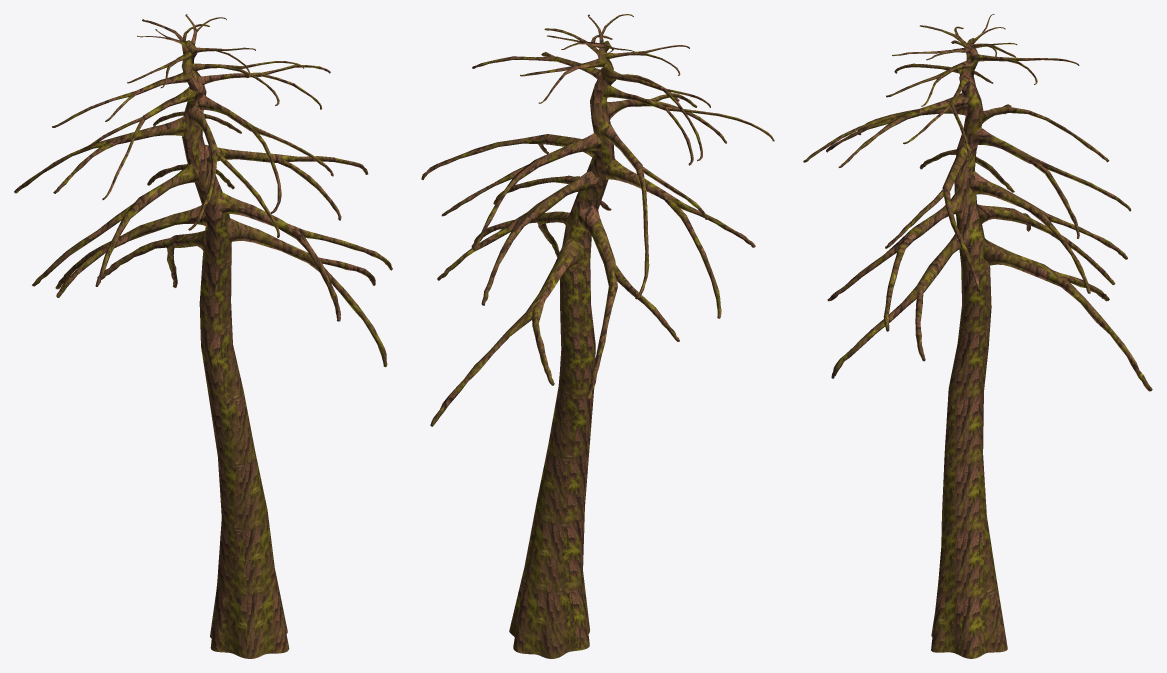
The model's file is dtree_dead_3.glb.
3 renders of one model, left to right at view 1: azimuth 30°, elevation 25°; view 2: azimuth 150°, elevation 25°; view 3: azimuth 270°, elevation 25°, orthographic. The views are drawn at different scales.
Visible parts, largest first — view 1: model; view 2: model; view 3: model.
Part boxes in pixels (<box>): model: <box>14,14,392,658</box>; model: <box>421,14,774,658</box>; model: <box>803,14,1152,658</box>.
Bounding box in the file's own units: 4.08 × 7.63 × 4.13.
Materials: 1 (1 with a texture image).
